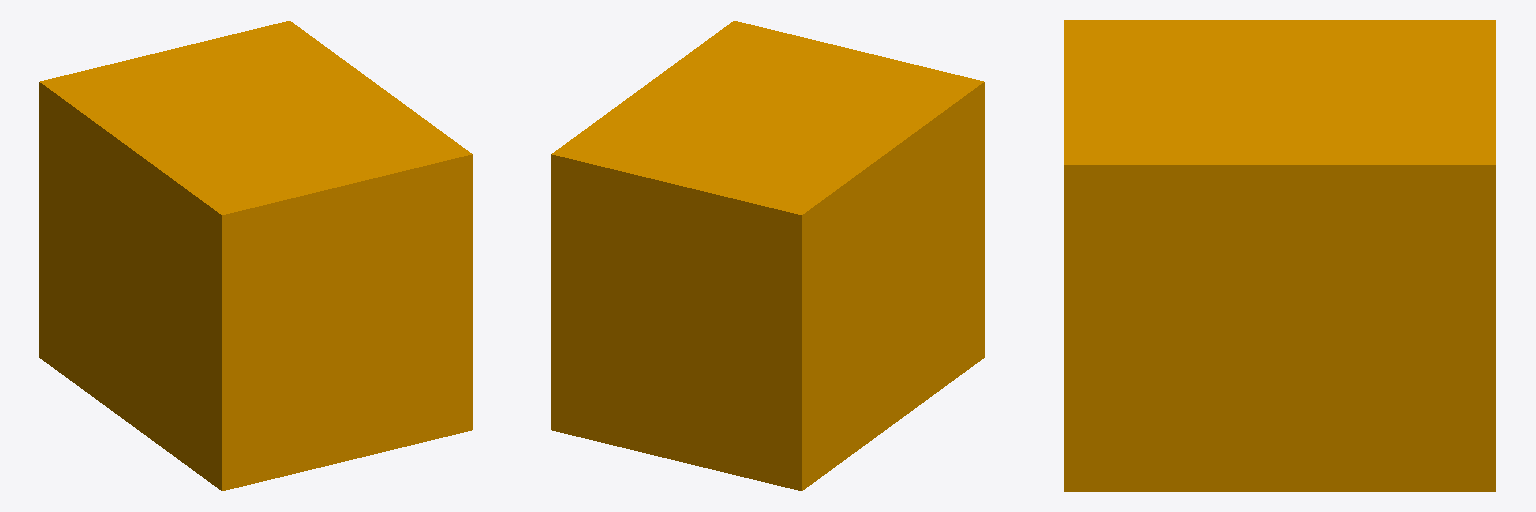
The robot description file, URDF, robot "object":
<robot name="object">
  <link name="object">
    <visual>
      <origin xyz="0 0 0" />
      <geometry>
        <box size="0.07600000000000001 0.09600000000000003 0.08" />
      </geometry>
    </visual>

    <collision>
      <origin xyz="0 0 0" />
      <geometry>
        <box size="0.07600000000000001 0.09600000000000003 0.08" />
      </geometry>
    </collision>

    <inertial>
      <mass value="0.05" />
      <inertia ixx="0.0001" ixy="0.0" ixz="0.0" iyy="0.0001" iyz="0.0" izz="0.0001" />
    </inertial>
  </link>
</robot>

--- Facts derived from the render (not from the file) ---
Views: 3 orthographic renders of the robot side by side, from view 1: azimuth 30°, elevation 25°; view 2: azimuth 150°, elevation 25°; view 3: azimuth 270°, elevation 25°.
Robot: object — 1 links, 0 joints (none); root link object; default pose: all joints at 0.
Visible links, largest first — view 1: object; view 2: object; view 3: object.
Link boxes in pixels (box(x1,y1,x2,y2)): object: box(39, 21, 472, 490); object: box(551, 21, 984, 490); object: box(1064, 20, 1495, 491).
Bounding box of the posed robot: 0.076 × 0.096 × 0.08 m (x, y, z).
Geometry: primitives only (box / cylinder / sphere), no mesh files.